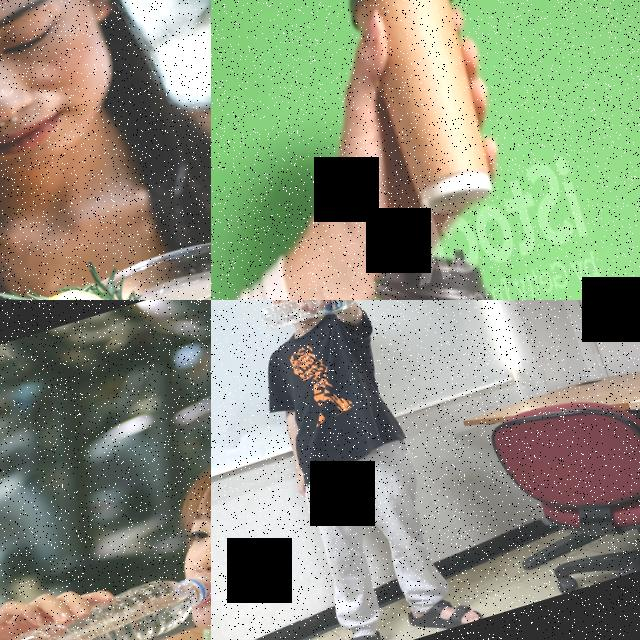bottle: (0, 562, 211, 640), (257, 300, 368, 334)
cup: (333, 0, 516, 227), (358, 225, 557, 300)
